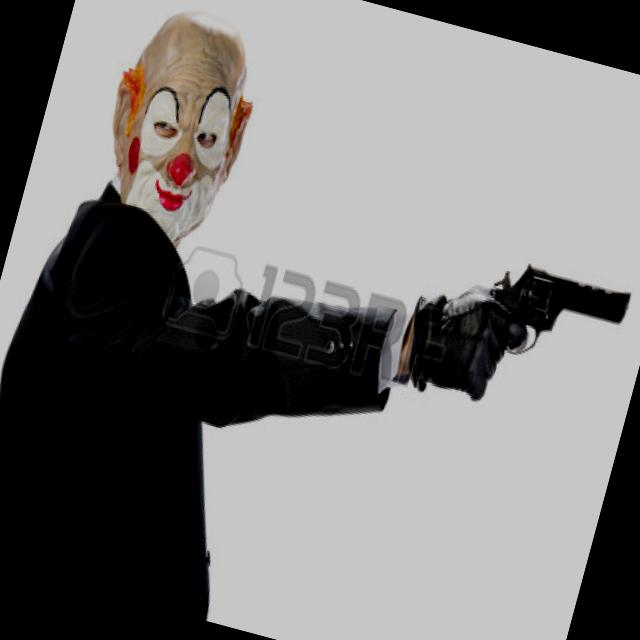handgun: (444, 231, 638, 448)
